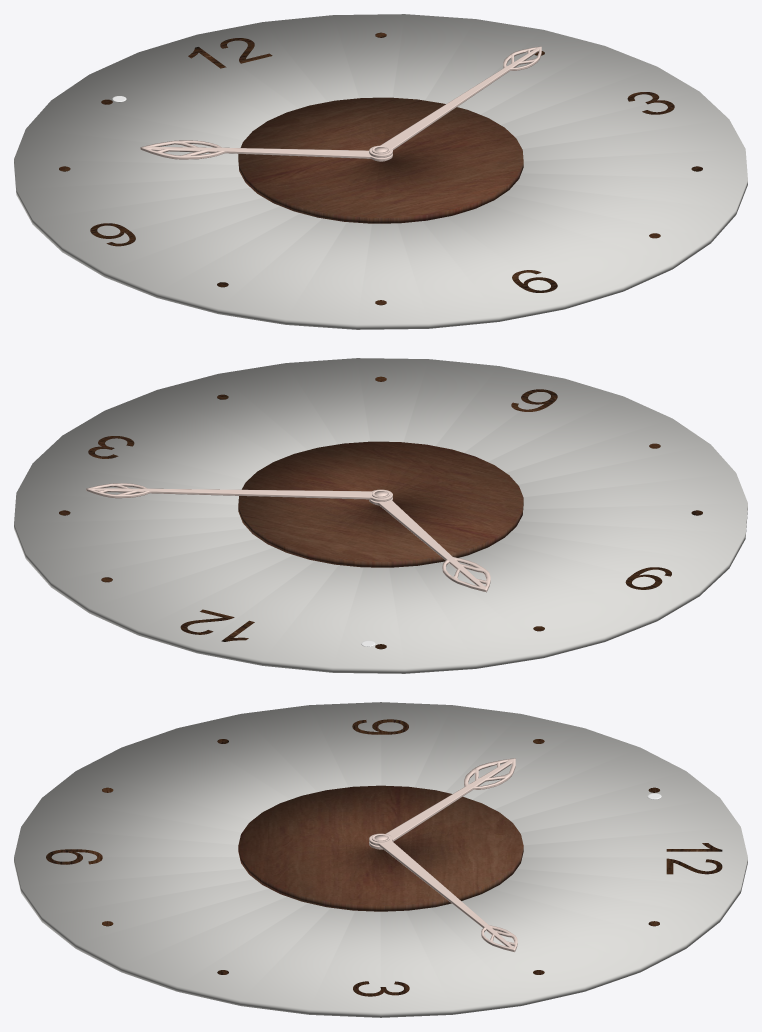
File: modern-clock.glb
3 renders of one model, top to bottom at view 1: azimuth 30°, elevation 25°; view 2: azimuth 150°, elevation 25°; view 3: azimuth 270°, elevation 25°, orthographic.
Visible parts, largest first — view 1: Circle.003, Circle.004_Baked, Text_Baked, Cylinder.003, Cylinder.001; view 2: Circle.003, Circle.004_Baked, Cylinder.001, Text_Baked, Cylinder.003; view 3: Circle.003, Circle.004_Baked, Text_Baked, Cylinder.001, Cylinder.003.
Part boxes in pixels (left/top/right/bottom): Circle.003: left=14, top=14, right=747, bottom=329; Circle.004_Baked: left=238, top=97, right=523, bottom=223; Text_Baked: left=59, top=32, right=702, bottom=305; Cylinder.003: left=140, top=140, right=392, bottom=161; Cylinder.001: left=369, top=46, right=541, bottom=157; Circle.003: left=14, top=358, right=747, bottom=673; Circle.004_Baked: left=238, top=441, right=523, bottom=567; Cylinder.001: left=86, top=483, right=392, bottom=501; Text_Baked: left=59, top=376, right=702, bottom=649; Cylinder.003: left=369, top=497, right=490, bottom=592; Circle.003: left=14, top=702, right=747, bottom=1017; Circle.004_Baked: left=238, top=785, right=523, bottom=911; Text_Baked: left=46, top=719, right=722, bottom=996; Cylinder.001: left=369, top=833, right=517, bottom=951; Cylinder.003: left=369, top=758, right=515, bottom=849.
Size of the model in its own units: 0.3 by 0.0265 by 0.3.
Materials: 5 (2 with a texture image).
